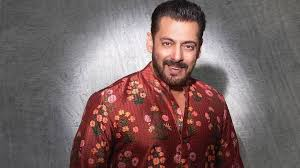without_mask: (147, 16, 202, 87)
